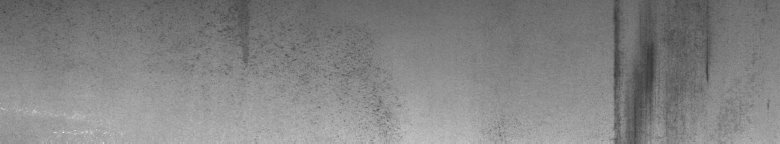ka: (607, 4, 770, 136)
